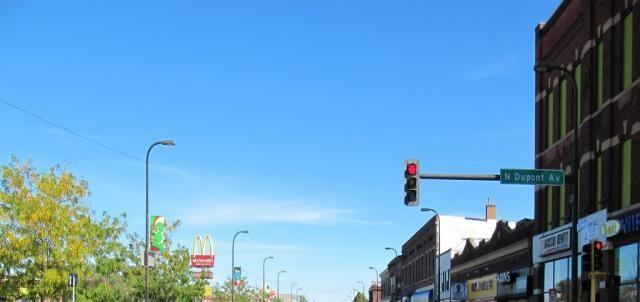red_light: (405, 158, 418, 205), (593, 241, 603, 270)
